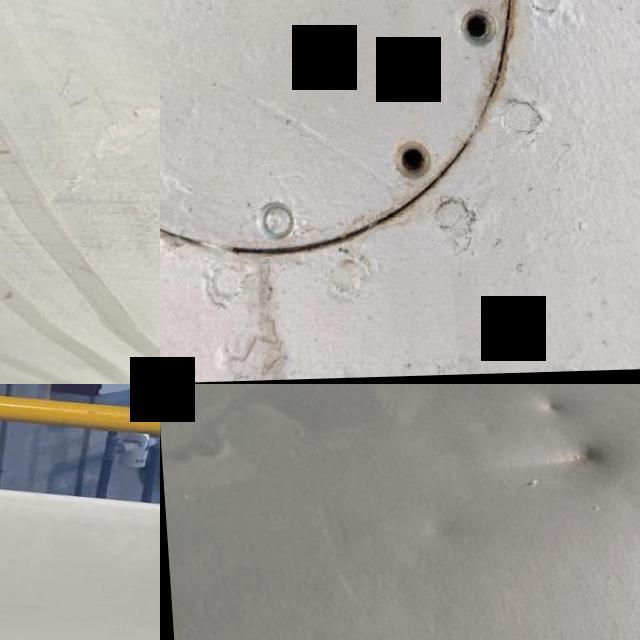Dent: (477, 434, 616, 489), (523, 386, 574, 432)
Missing_Fastener: (356, 121, 440, 202), (436, 0, 517, 68)
